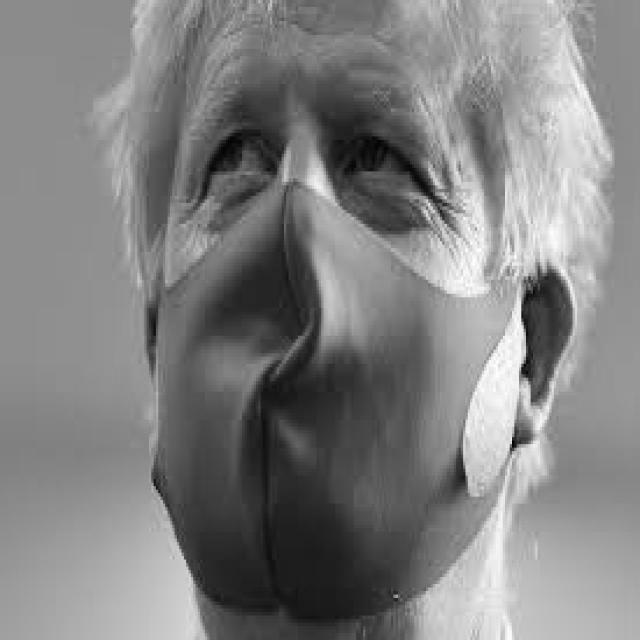fake: (152, 180, 518, 622)
real: (149, 12, 519, 577)
